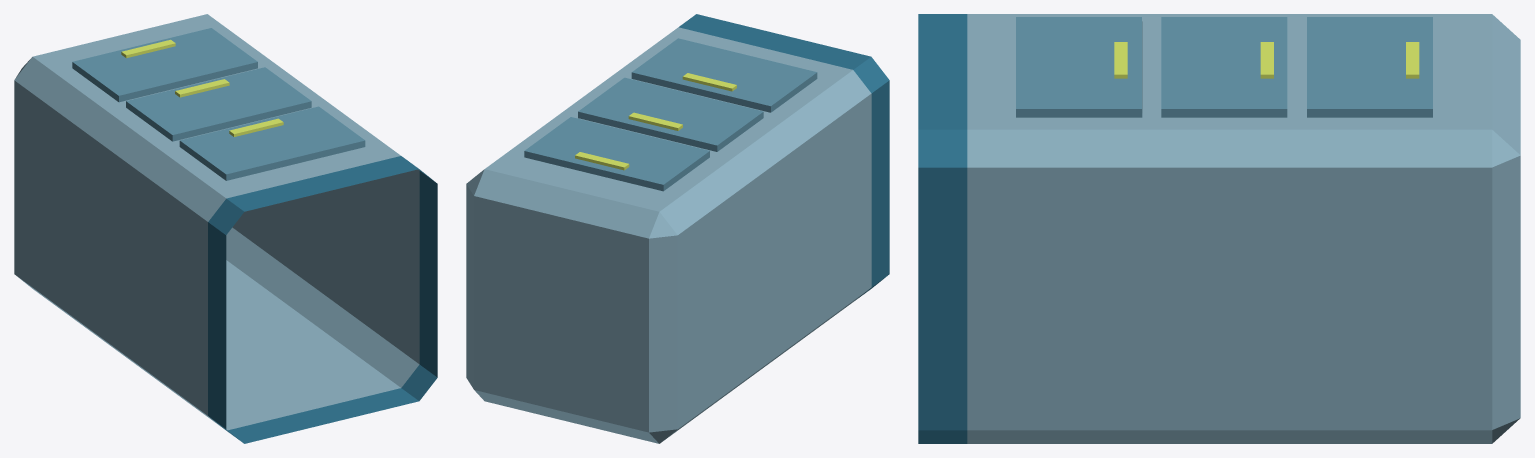
Rendered from Cabinet 04.FBX.
The picture shows the model from 3 angles, left to right: view 1: azimuth 30°, elevation 25°; view 2: azimuth 150°, elevation 25°; view 3: azimuth 270°, elevation 25°; orthographic projection. The views are drawn at different scales.
Parts seen in each view (by area): view 1: Cabinet 04; view 2: Cabinet 04; view 3: Cabinet 04.
Boxes of the visible parts, <box> form: Cabinet 04: <box>14,14,437,443</box>; Cabinet 04: <box>466,14,889,443</box>; Cabinet 04: <box>918,14,1520,443</box>.
Size of the model in its own units: 93.07 by 102 by 170.
Materials: 1 (1 with a texture image).
